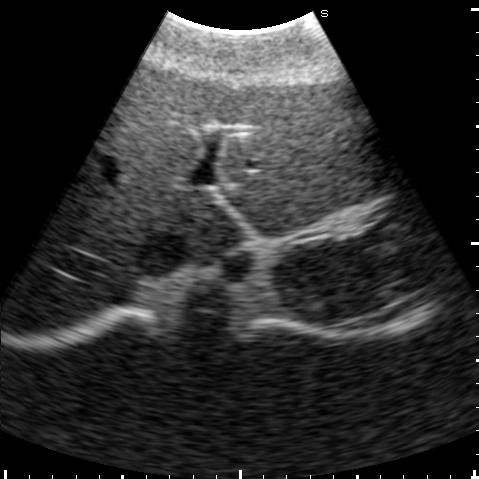IVC: (136, 234, 191, 276)
S1: (187, 192, 245, 265)
S2: (222, 166, 406, 237)
S3: (209, 74, 396, 202)
